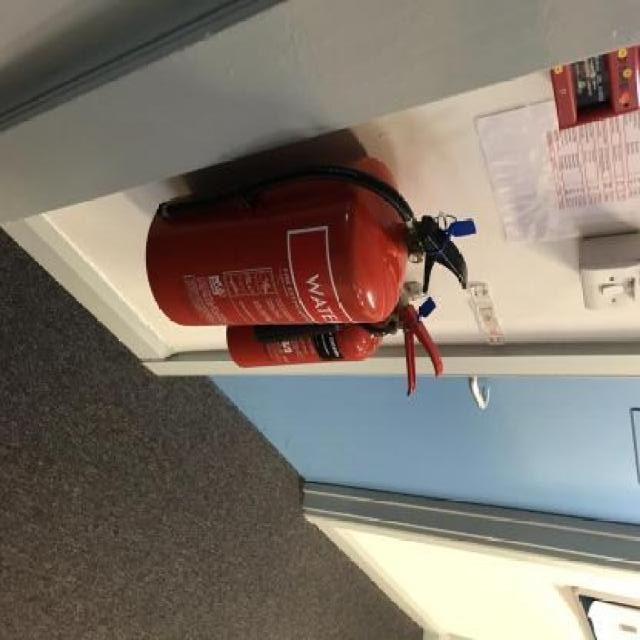fire extinguisher: (146, 147, 469, 331), (227, 298, 444, 396)
